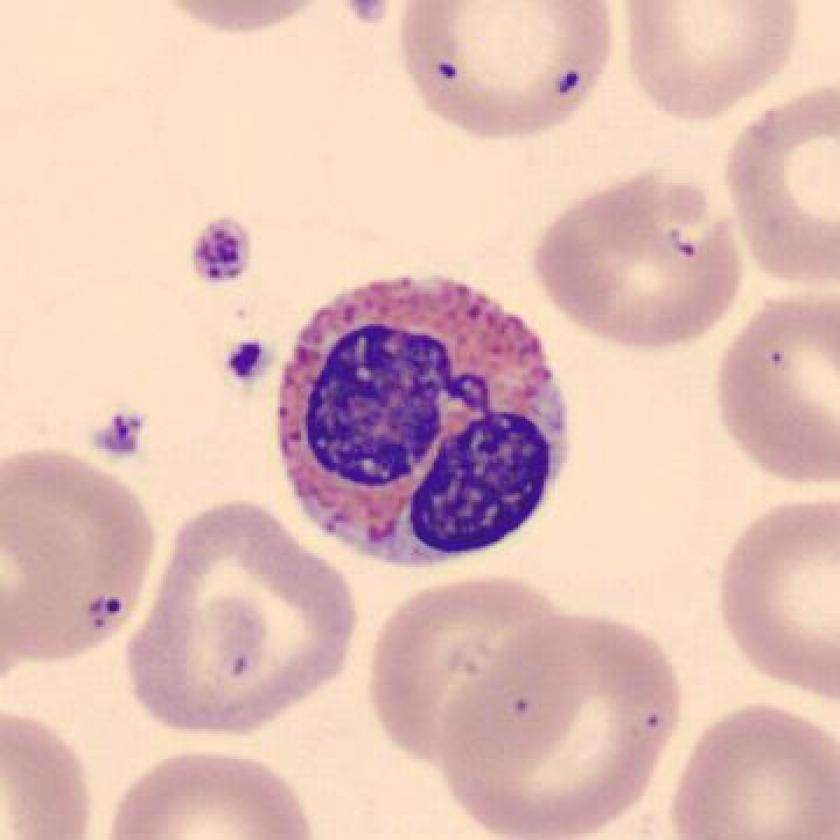eosinophil: (262, 263, 582, 580)
